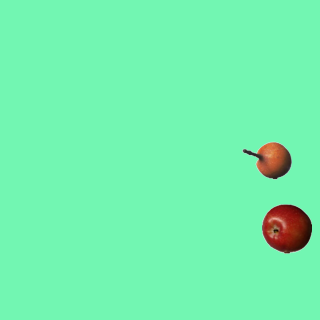Apple Braeburn: (261, 203, 311, 253)
Granadilla: (241, 135, 291, 185)
